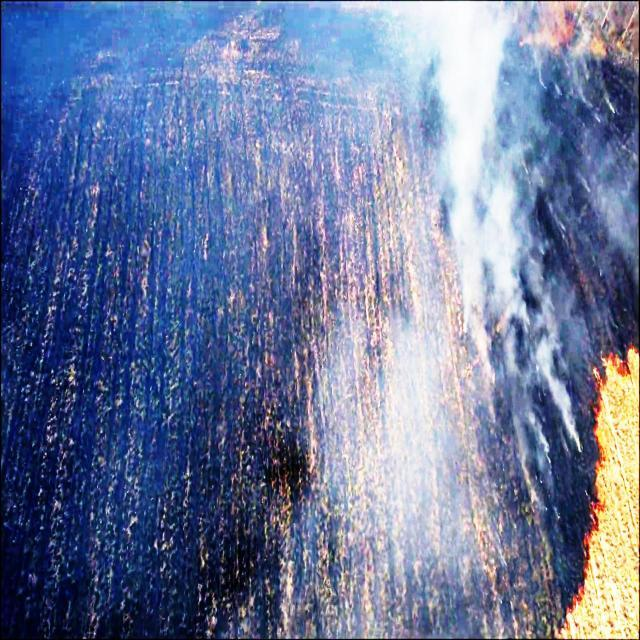Fire: (568, 348, 640, 624)
Smoke: (0, 0, 640, 343), (1, 348, 564, 640)
